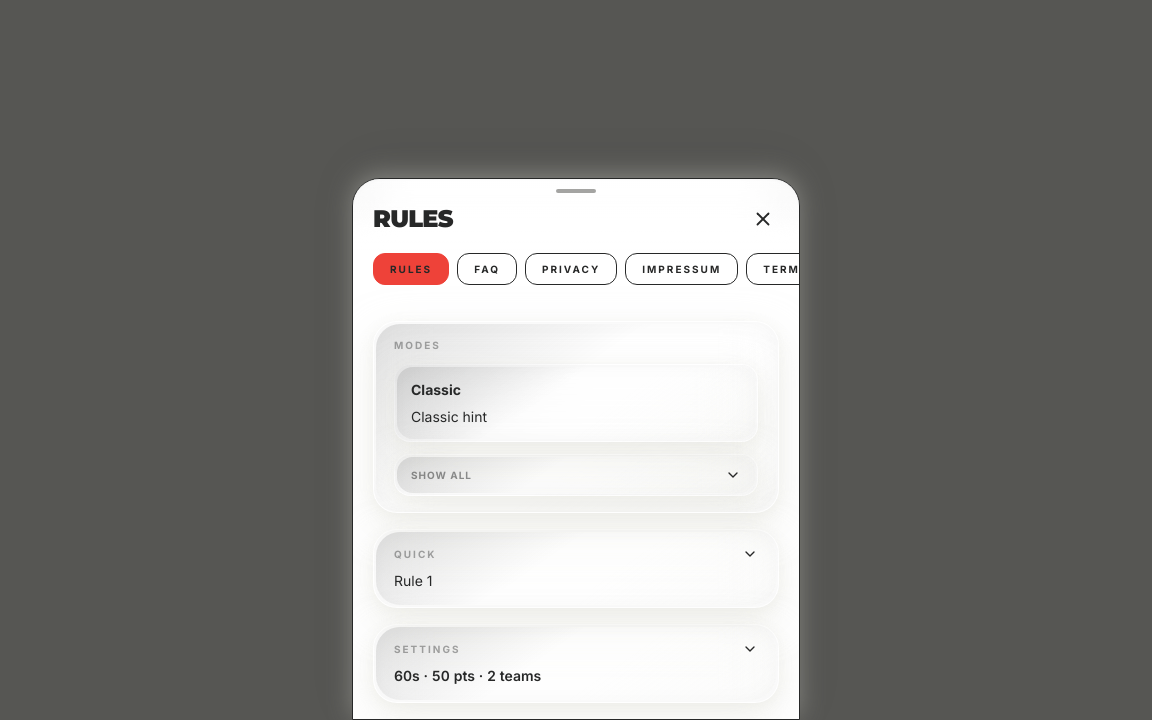
Scenario: RulesModal › should render tall sheet with scroll body and switch tabs
The width and height of the screenshot is (1152, 720).
Expected: the dialog is shown, [352,178,800,719]
Expected: the heading "Rules" is shown, [373,204,453,233]
Click the tab "FAQ" at (487,269), box [457,253,517,285]
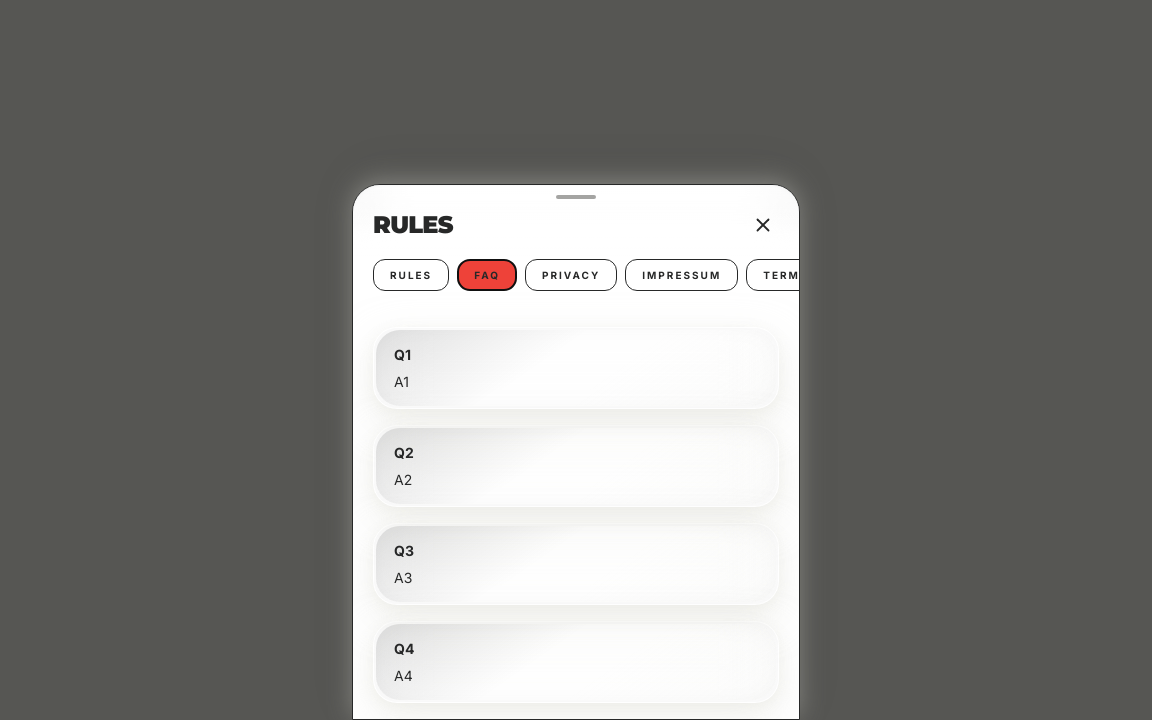
Expected: the text "Q1" is shown, [394,346,411,363]
